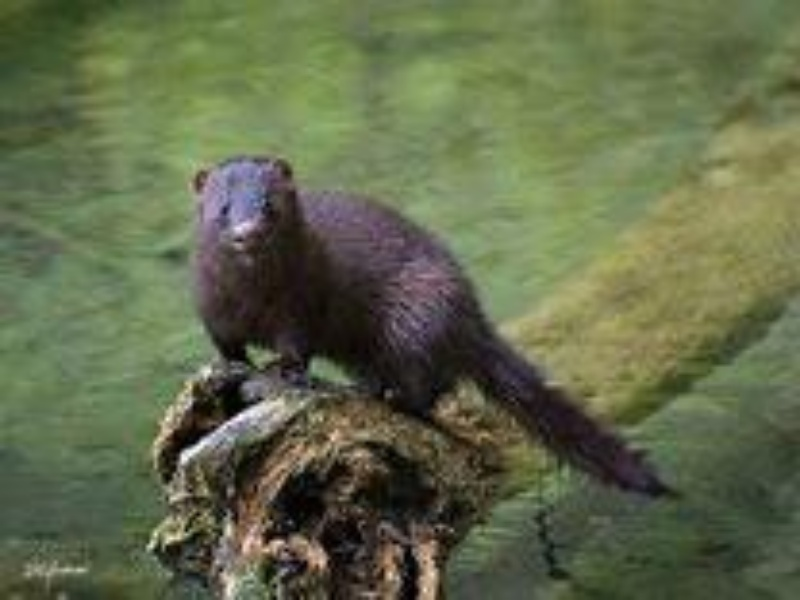minkish: (186, 153, 684, 506)
